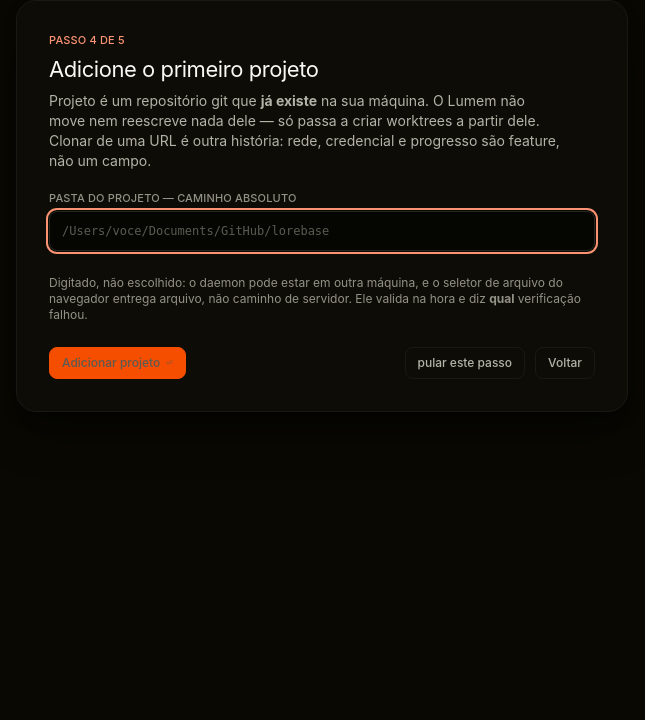
Test: project step › warns about worktrees created outside the Lumem, and touches none
The width and height of the screenshot is (645, 720).
Type "/repos/lorebase" into the field labelled "Pasta do projeto — caminho absoluto" at (322, 231), box [49, 211, 595, 251]
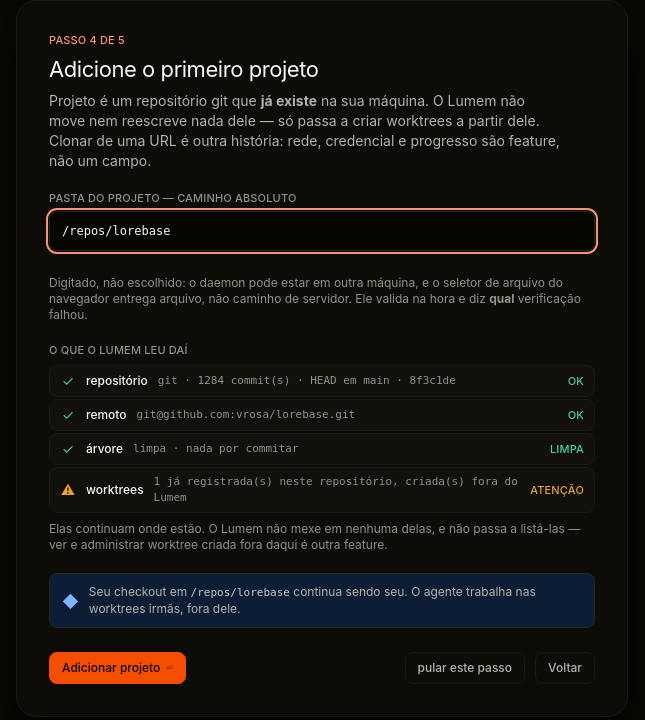
Now the text "1 já registrada" is shown, box [154, 475, 518, 504]
Now the text "não passa a listá-las" is shown, box [49, 521, 580, 552]
